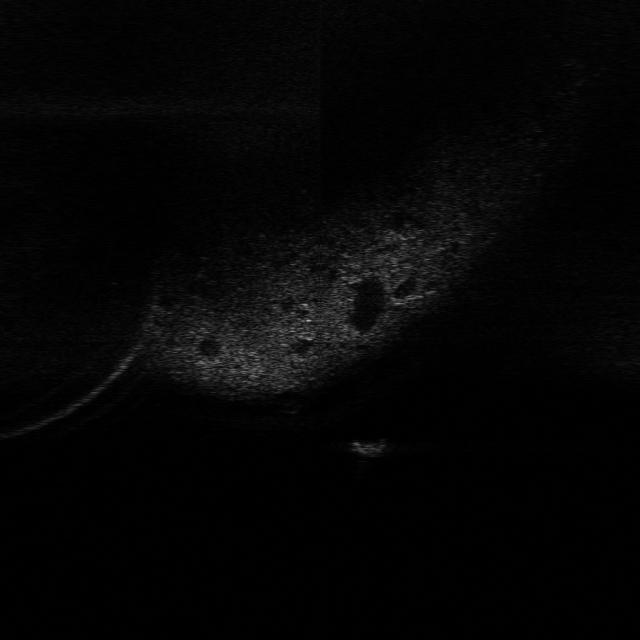cube: (347, 432, 394, 461)
